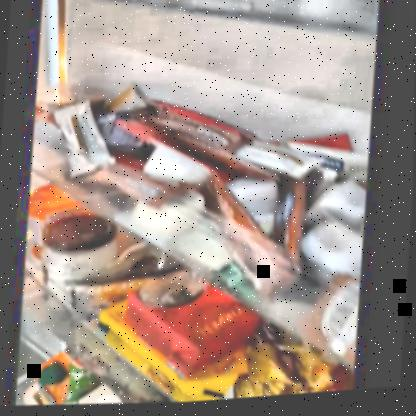butter: (94, 318, 201, 402)
